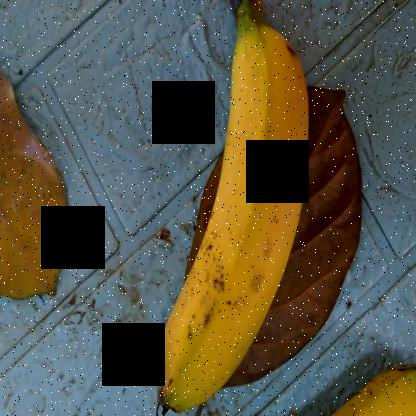ripe: (148, 1, 323, 405)
